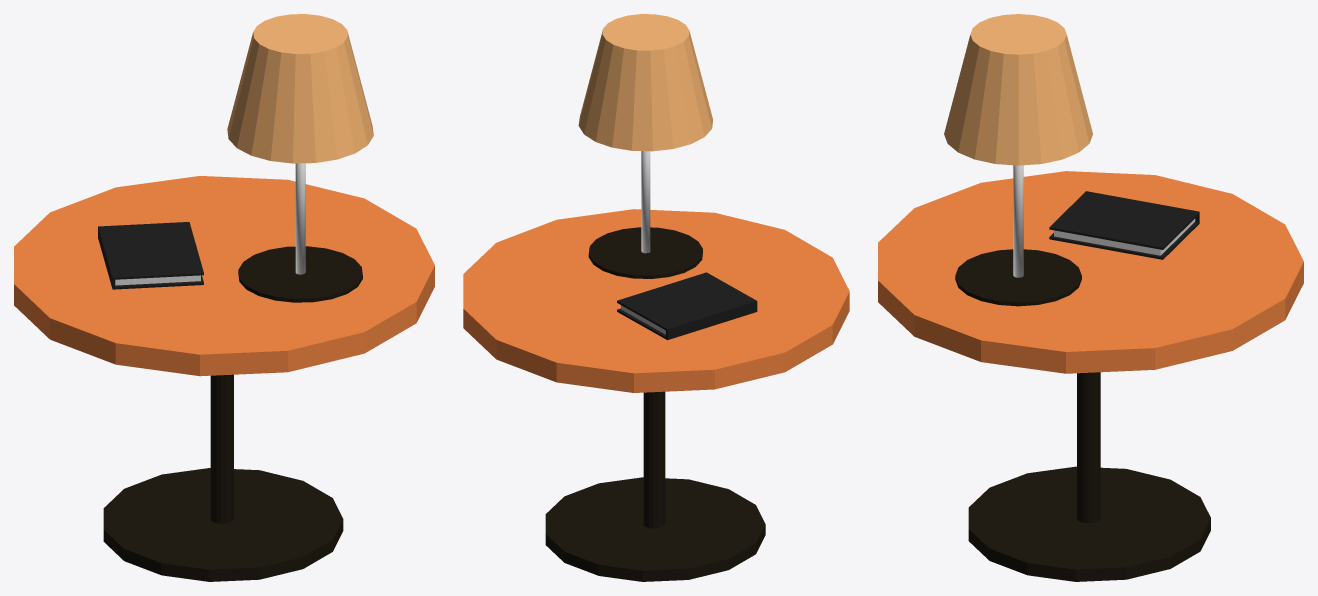
Rendered from TableWithLamp.fbx.
The picture shows the model from 3 angles, left to right: view 1: azimuth 30°, elevation 25°; view 2: azimuth 150°, elevation 25°; view 3: azimuth 270°, elevation 25°; orthographic projection. The views are drawn at different scales.
Parts seen in each view (by area): view 1: TableWithLamp; view 2: TableWithLamp; view 3: TableWithLamp.
Part boxes in pixels (x1,y1,x2,y2): TableWithLamp: [14, 14, 434, 581]; TableWithLamp: [463, 14, 849, 581]; TableWithLamp: [878, 14, 1303, 581].
Size of the model in its own units: 157 by 210 by 156.
